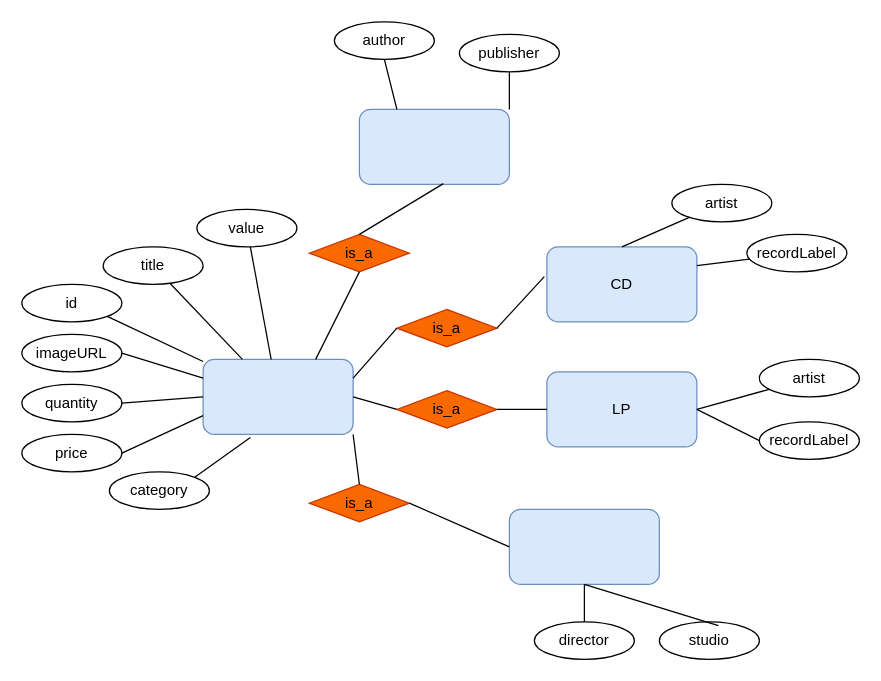
This 881x681 diagram has some shape labels left out. Each missing label, with the centre of its shape:
"Book" goes at [433,146].
"DVD" goes at [583,546].
"Product" goes at [277,396].
